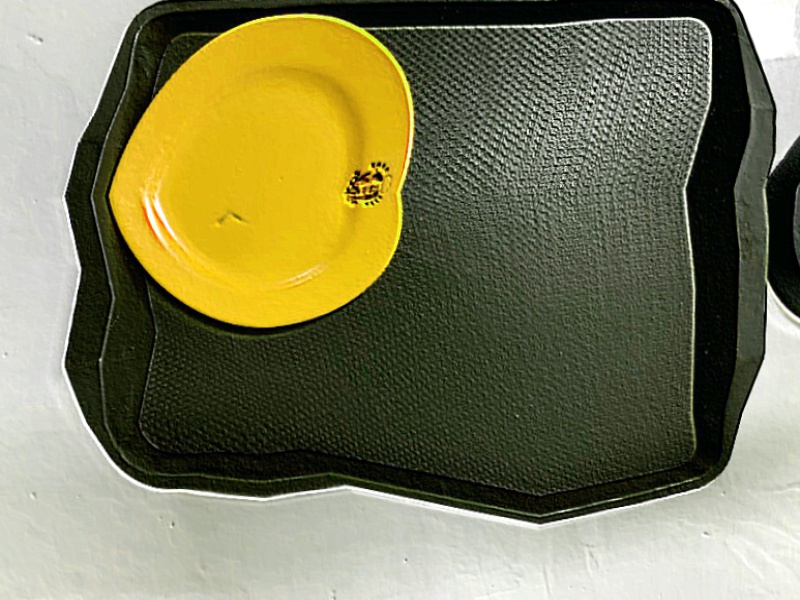dish10: (116, 11, 464, 349)
